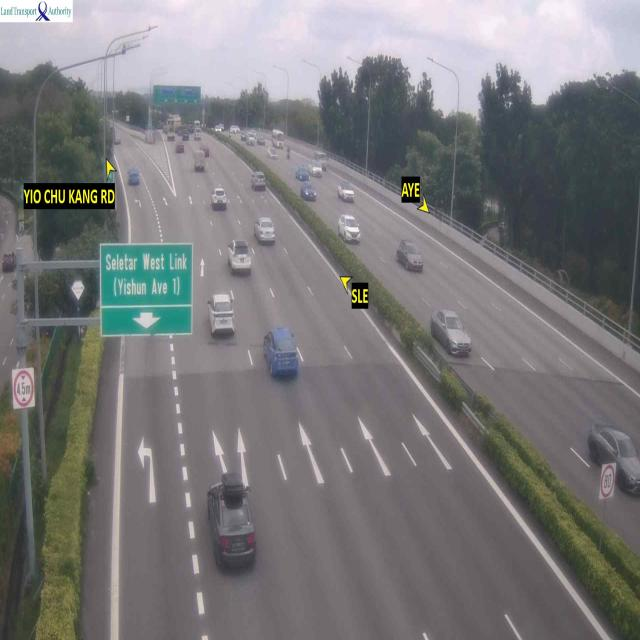vehicles: (202, 473, 258, 574), (589, 426, 640, 508), (427, 306, 472, 366), (262, 323, 300, 386), (207, 290, 239, 341), (397, 240, 431, 280), (228, 234, 254, 279), (211, 180, 235, 221), (339, 217, 366, 250), (253, 217, 279, 247), (192, 145, 210, 175), (250, 172, 268, 194), (302, 181, 319, 203), (338, 182, 356, 202), (128, 168, 144, 188), (312, 161, 324, 180)
